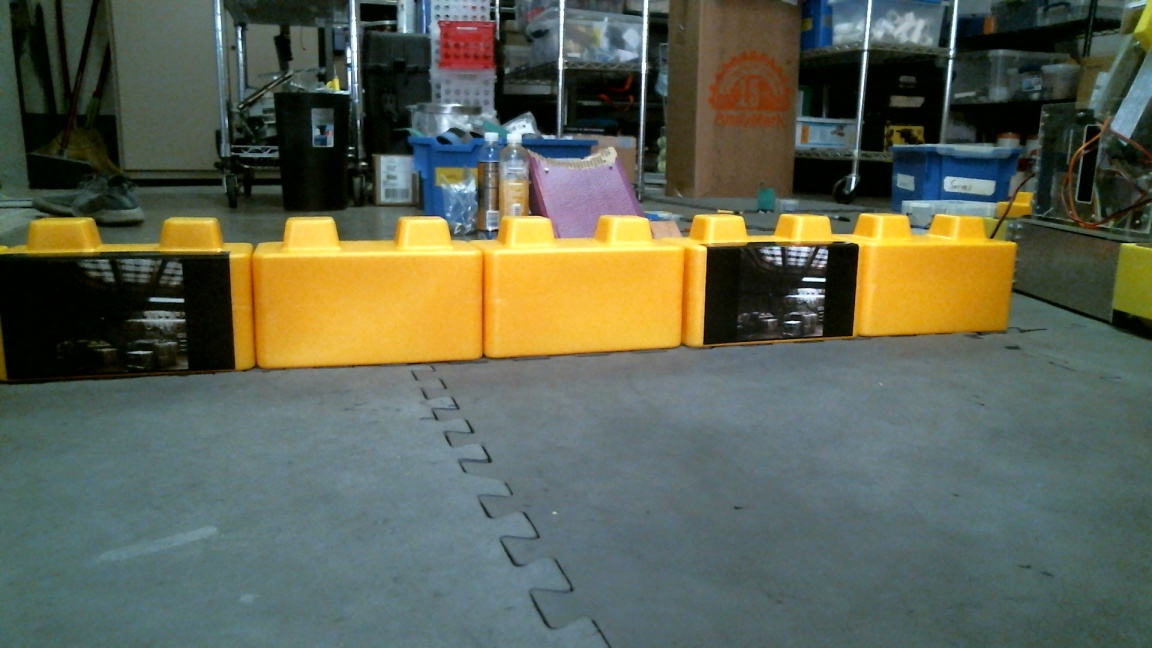center: (479, 211, 1016, 369)
left: (1, 219, 687, 380)
right: (253, 218, 854, 367)
